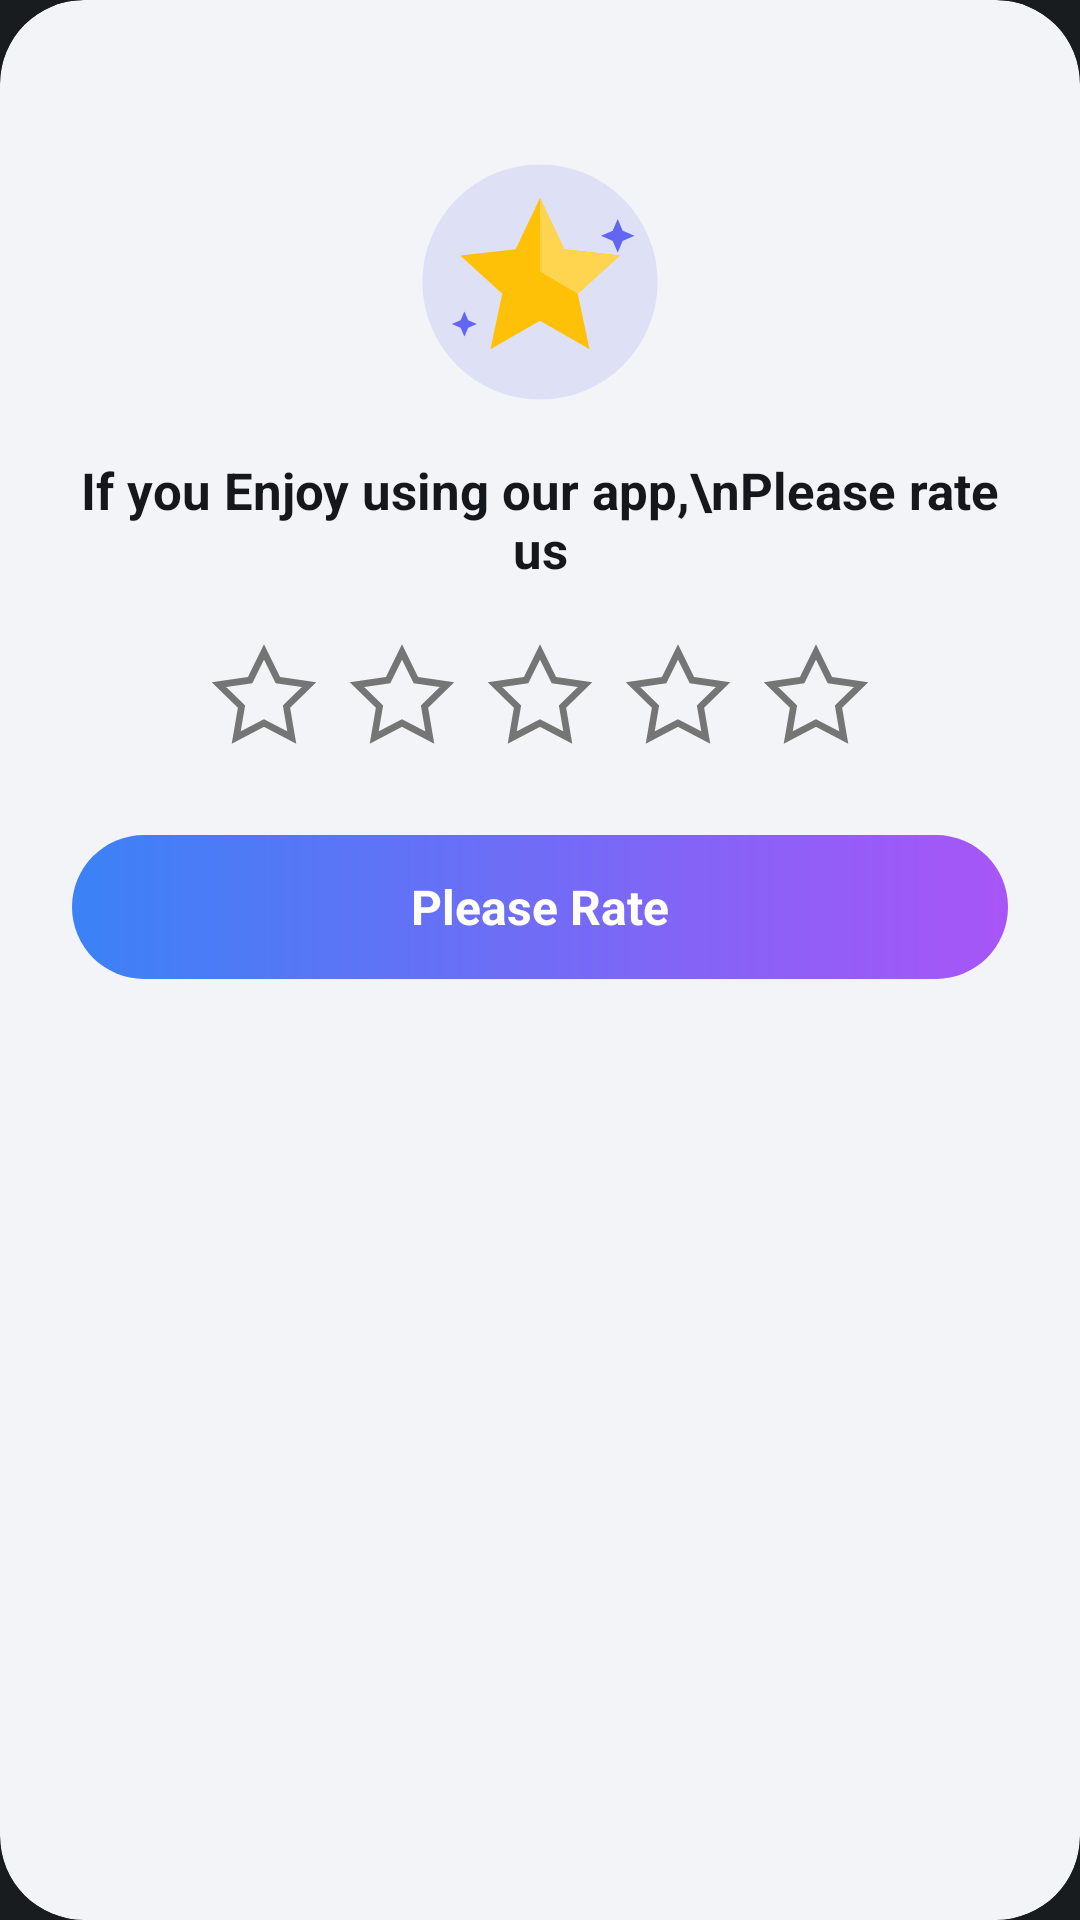

Screen size 1080px×1920px. Icon name, then its center in pixels as point (x, y):
il rate us: point (540, 282)
star border: point (264, 694), point (402, 694), point (540, 694), point (678, 694), point (816, 694)
